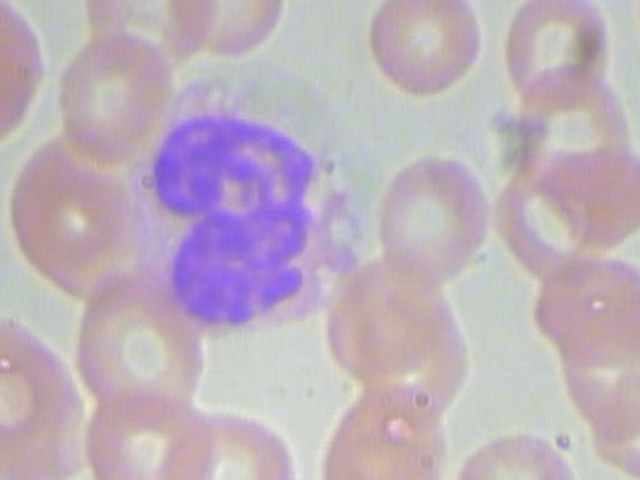RBC: (59, 260, 211, 431), (365, 145, 499, 280), (57, 26, 178, 166), (488, 0, 623, 111), (356, 0, 490, 103), (70, 391, 221, 480), (527, 250, 640, 363), (308, 390, 446, 480), (154, 407, 298, 480), (438, 418, 590, 480), (0, 0, 50, 161), (171, 0, 287, 61)
WBC: (116, 64, 375, 356)
